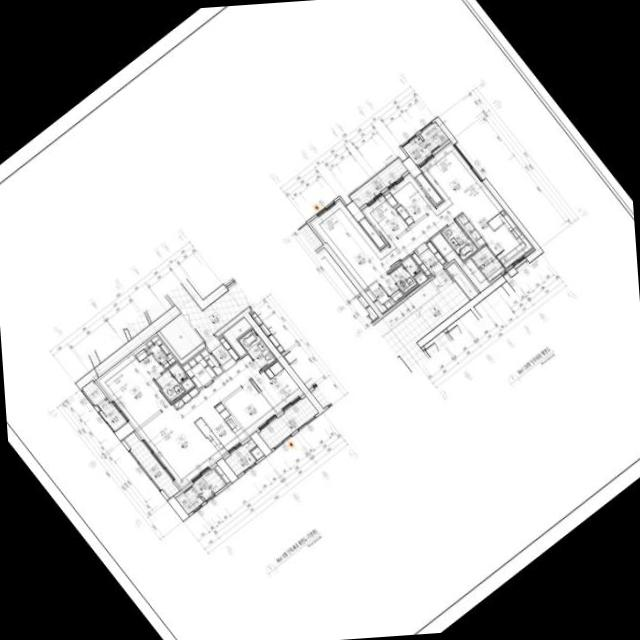background: (0, 0, 640, 640)
space_balconi: (124, 431, 179, 497), (259, 396, 318, 449), (225, 438, 256, 475), (193, 468, 226, 500), (98, 398, 127, 431)
space_bedroom: (311, 200, 401, 289), (98, 353, 170, 429), (223, 381, 276, 434), (252, 359, 303, 412), (384, 174, 435, 226), (363, 195, 408, 243)
space_dressroom: (133, 335, 176, 378), (364, 273, 404, 312)
space_elevator_hall: (382, 268, 470, 356), (166, 282, 253, 341)
space_front: (410, 239, 447, 277), (205, 335, 241, 370)
space_kitchen: (455, 191, 532, 267), (194, 401, 247, 455)
space_living_room: (138, 353, 259, 486), (390, 143, 488, 260)
space_multipurpose_space: (471, 245, 505, 280), (403, 135, 431, 164)
space_other: (373, 280, 440, 336), (431, 232, 490, 290), (350, 158, 408, 208), (159, 313, 203, 358), (182, 353, 217, 389), (446, 261, 479, 299), (223, 317, 251, 356), (416, 173, 442, 203), (359, 217, 385, 247), (176, 486, 203, 513), (201, 349, 223, 374), (215, 465, 230, 483), (251, 446, 264, 459), (414, 271, 427, 284), (181, 378, 194, 390)
space_outdoor_room: (420, 121, 449, 149), (82, 379, 106, 405)
space_toilet: (239, 328, 276, 369), (441, 221, 478, 260), (154, 362, 188, 401), (389, 256, 420, 293)
